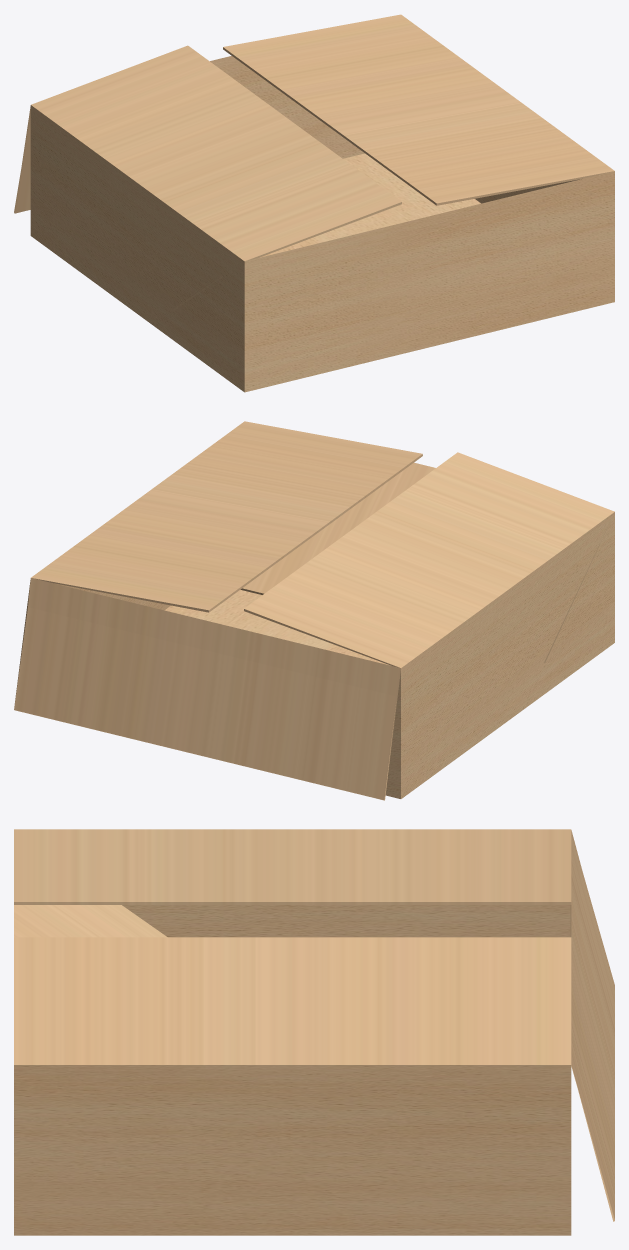
Rendered from envi4.fbx.
3 renders of one model, top to bottom at view 1: azimuth 30°, elevation 25°; view 2: azimuth 150°, elevation 25°; view 3: azimuth 270°, elevation 25°, orthographic. The views are drawn at different scales.
Parts seen in each view (by area): view 1: Cylinder.002; view 2: Cylinder.002; view 3: Cylinder.002.
Boxes of the visible parts, x1=… form: Cylinder.002: x1=14, y1=14, x2=614, y2=392; Cylinder.002: x1=14, y1=421, x2=614, y2=800; Cylinder.002: x1=14, y1=829, x2=614, y2=1235.
Bounding box in the file's own units: 114 × 44.68 × 123.
1 material, 1 textured.
